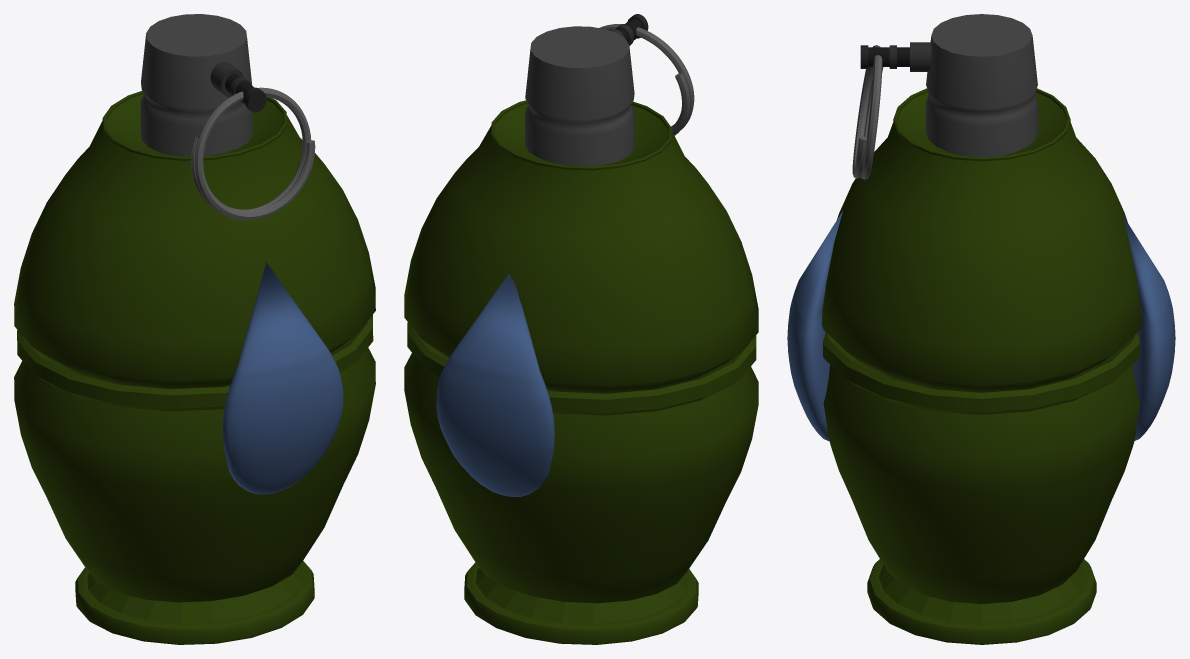
The model's file is WaterGrenade_VestigePrototype.fbx.
3 renders of one model, left to right at view 1: azimuth 30°, elevation 25°; view 2: azimuth 150°, elevation 25°; view 3: azimuth 270°, elevation 25°, orthographic.
Visible parts, largest first — view 1: grenadeBody, pSphere1, pCylinder1, pHelix1, pCylinder3; view 2: grenadeBody, pSphere2, pCylinder1, pHelix1; view 3: grenadeBody, pCylinder1, pSphere1, pSphere2, pHelix1, pCylinder3, pCylinder2.
Part boxes in pixels (left/top/right/bottom): grenadeBody: left=14, top=90, right=375, bottom=644; pSphere1: left=222, top=262, right=343, bottom=494; pCylinder1: left=140, top=14, right=252, bottom=156; pHelix1: left=190, top=87, right=315, bottom=220; pCylinder3: left=210, top=61, right=243, bottom=97; grenadeBody: left=404, top=100, right=758, bottom=644; pSphere2: left=436, top=274, right=554, bottom=496; pCylinder1: left=525, top=26, right=634, bottom=166; pHelix1: left=599, top=24, right=694, bottom=135; grenadeBody: left=821, top=88, right=1141, bottom=644; pCylinder1: left=925, top=14, right=1038, bottom=157; pSphere1: left=787, top=211, right=842, bottom=441; pSphere2: left=1122, top=215, right=1175, bottom=440; pHelix1: left=852, top=45, right=883, bottom=179; pCylinder3: left=910, top=42, right=931, bottom=71; pCylinder2: left=868, top=47, right=909, bottom=66.
Size of the model in its own units: 9.28 by 15.27 by 9.59.
